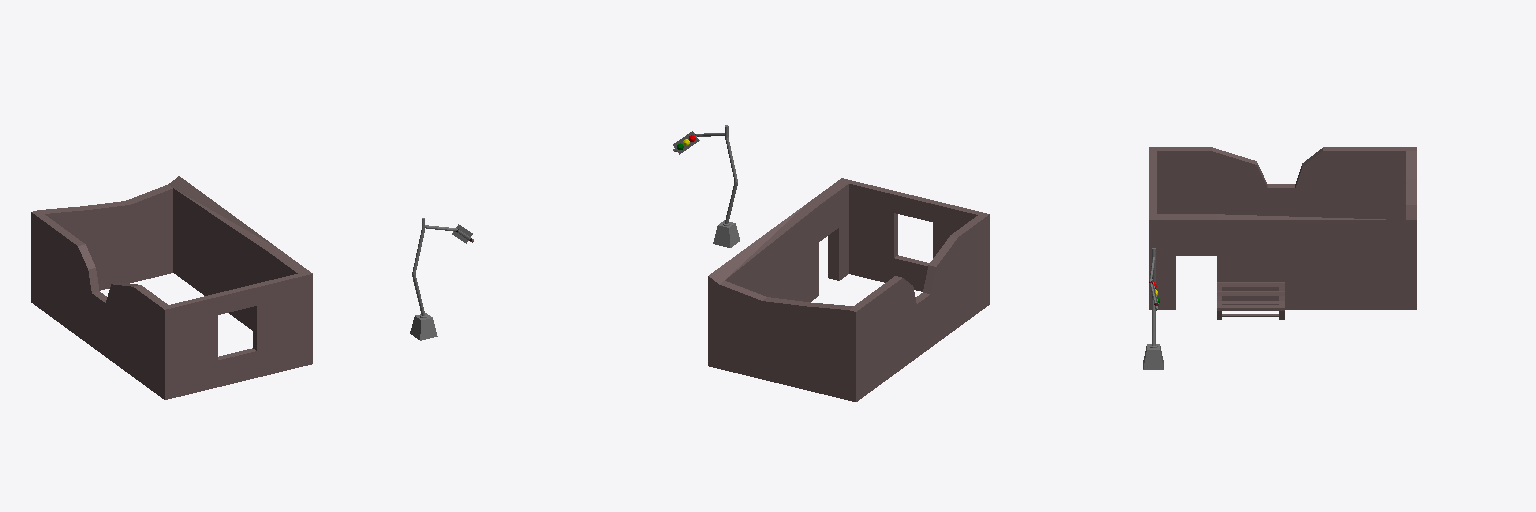
3 views of the same model, side by side, from view 1: azimuth 30°, elevation 25°; view 2: azimuth 150°, elevation 25°; view 3: azimuth 270°, elevation 25° (orthographic).
Visible parts, largest first — view 1: ciudad_pCylinder32polySurface31, ciudad_pCylinder32polySurface45; view 2: ciudad_pCylinder32polySurface31, ciudad_pCylinder32polySurface45; view 3: ciudad_pCylinder32polySurface31, ciudad_pCylinder32polySurface34, ciudad_pCylinder32polySurface45.
Part boxes in pixels (bbox=[...]): ciudad_pCylinder32polySurface31: bbox=[31, 176, 312, 399]; ciudad_pCylinder32polySurface45: bbox=[410, 218, 473, 340]; ciudad_pCylinder32polySurface31: bbox=[708, 178, 989, 401]; ciudad_pCylinder32polySurface45: bbox=[673, 125, 739, 247]; ciudad_pCylinder32polySurface31: bbox=[1149, 147, 1416, 309]; ciudad_pCylinder32polySurface34: bbox=[1217, 282, 1284, 319]; ciudad_pCylinder32polySurface45: bbox=[1143, 248, 1163, 369].
Bounding box in the file's own units: 34.73 × 12.35 × 26.26.
7 materials, 2 textured.